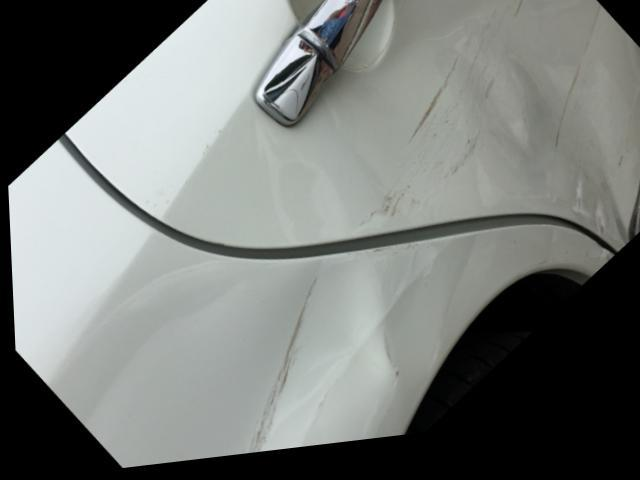dent: (48, 270, 395, 471), (428, 7, 640, 246), (275, 170, 351, 252)
scratch: (368, 90, 480, 229)
